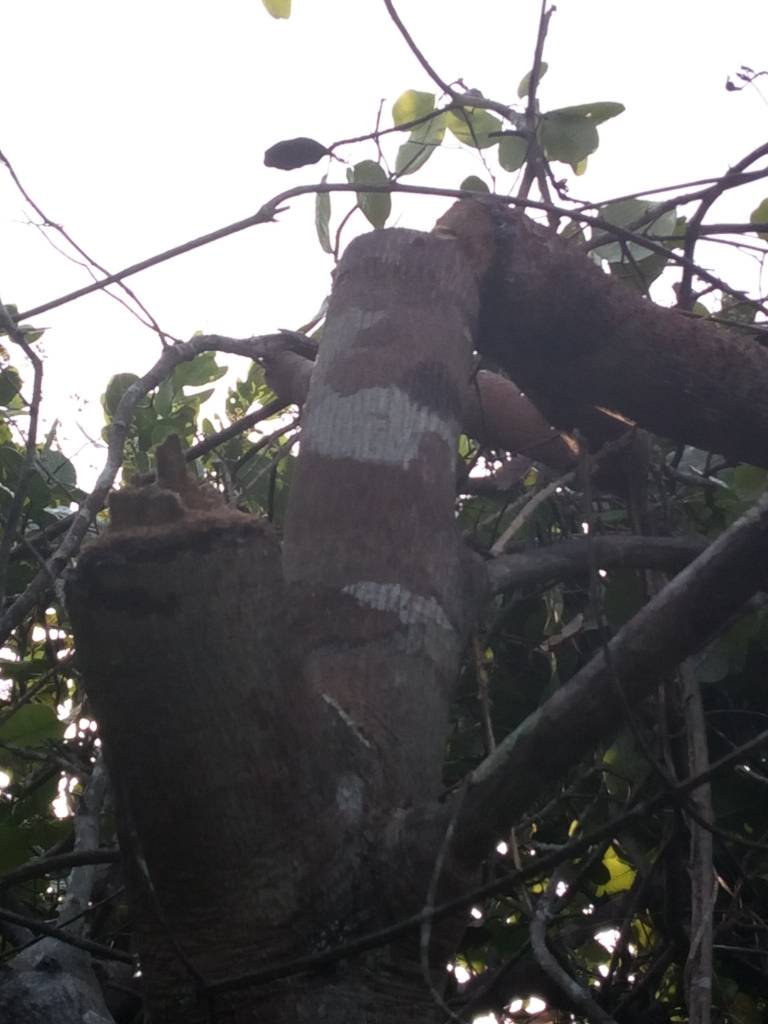Analepse trifasciata: (52, 436, 283, 616)
